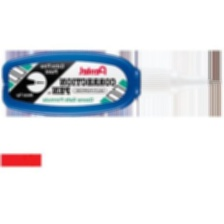correction_fluid: (0, 50, 224, 117)
